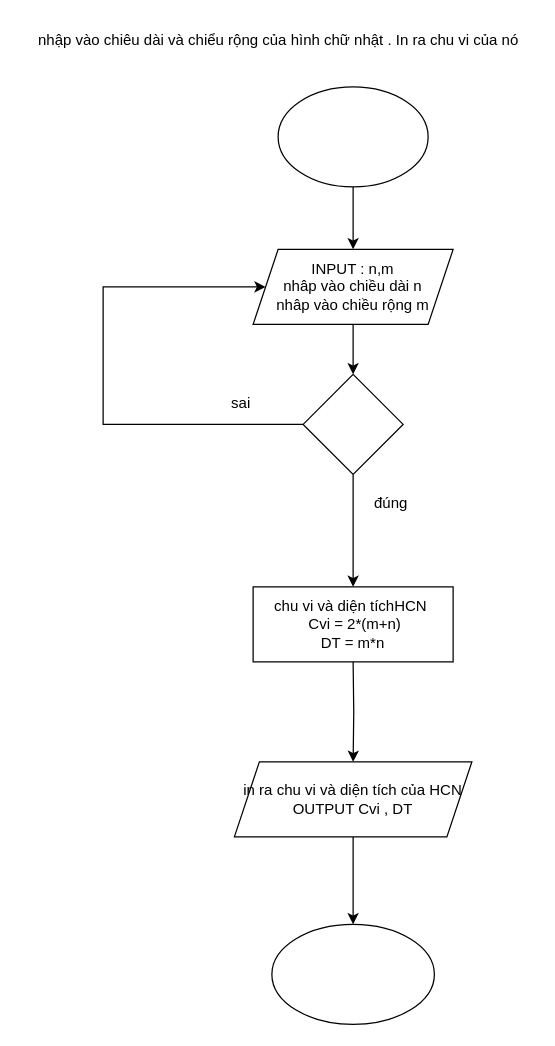
Some shapes in this 555 by 1046 pixel diagram are drawn without their labels. The centre of each missing label's shape, as x and y in pixels:
END: (x=352, y=973)
START: (x=352, y=136)
